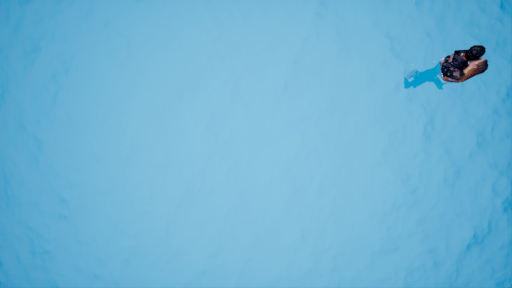person: (398, 40, 493, 90)
